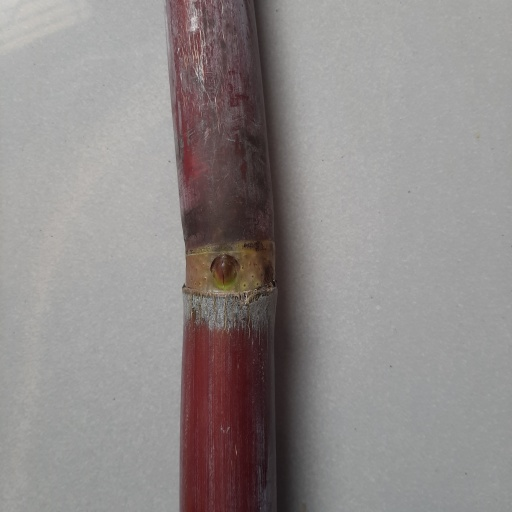Bud: (209, 252, 239, 288)
